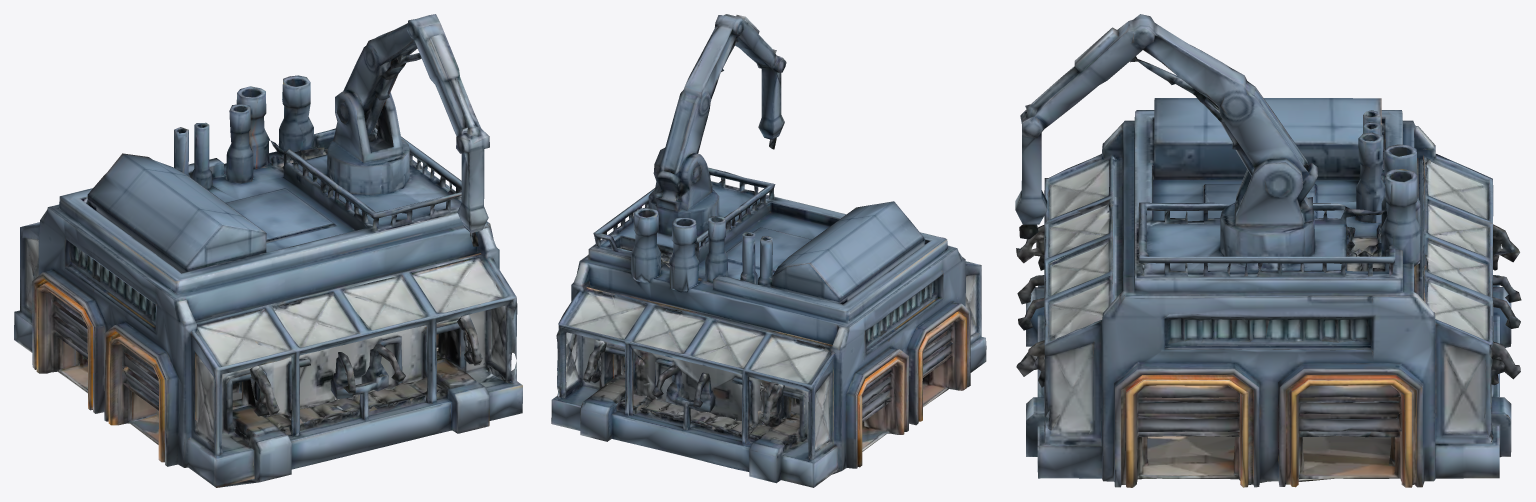
Rendered from factory.glb.
3 views of the same model, side by side, from view 1: azimuth 30°, elevation 25°; view 2: azimuth 150°, elevation 25°; view 3: azimuth 270°, elevation 25° (orthographic). The views are drawn at different scales.
Visible parts, largest first — view 1: Mesh1.0; view 2: Mesh1.0; view 3: Mesh1.0.
Boxes of the visible parts, bbox=[...] form: Mesh1.0: bbox=[14, 14, 522, 487]; Mesh1.0: bbox=[551, 14, 986, 487]; Mesh1.0: bbox=[1015, 14, 1521, 487].
Bounding box in the file's own units: 1.7 × 1.78 × 1.91.
Materials: 1 (1 with a texture image).
